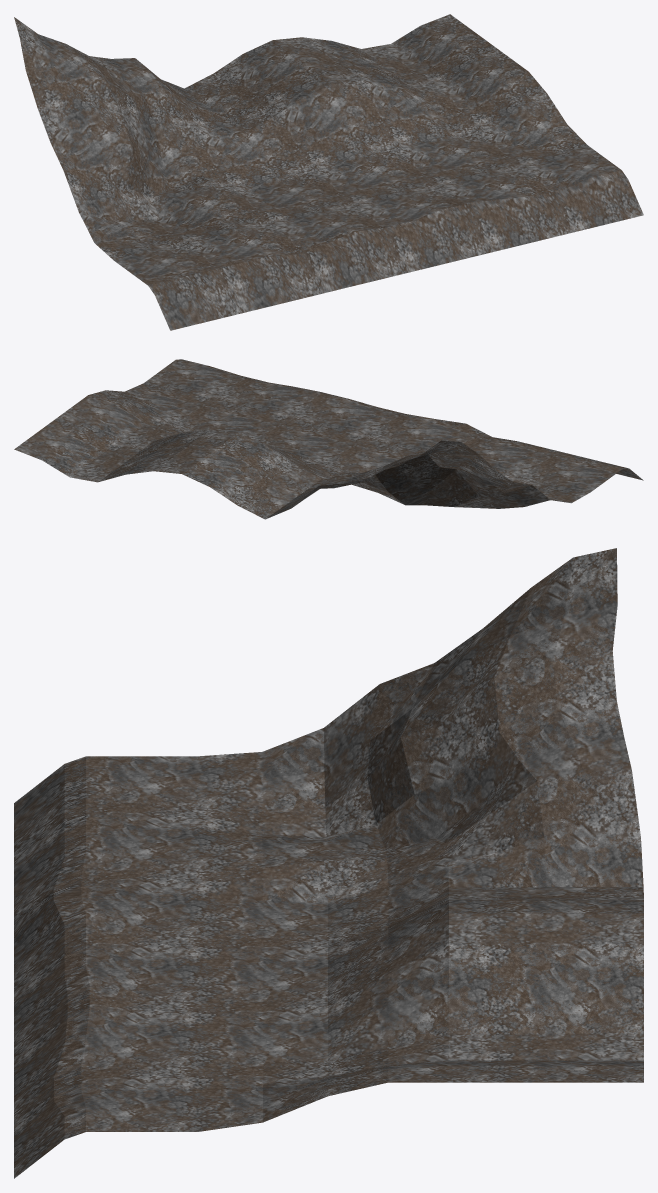
File: terrain.fbx
The picture shows the model from 3 angles, top to bottom: view 1: azimuth 30°, elevation 25°; view 2: azimuth 150°, elevation 25°; view 3: azimuth 270°, elevation 25°; orthographic projection. The views are drawn at different scales.
Visible parts, largest first — view 1: terrain; view 2: terrain; view 3: terrain.
Part boxes in pixels (x1,y1,x2,y2): terrain: (14, 14, 643, 330); terrain: (14, 359, 643, 519); terrain: (14, 548, 643, 1178).
Bounding box in the file's own units: 3433 × 1186 × 2433.
